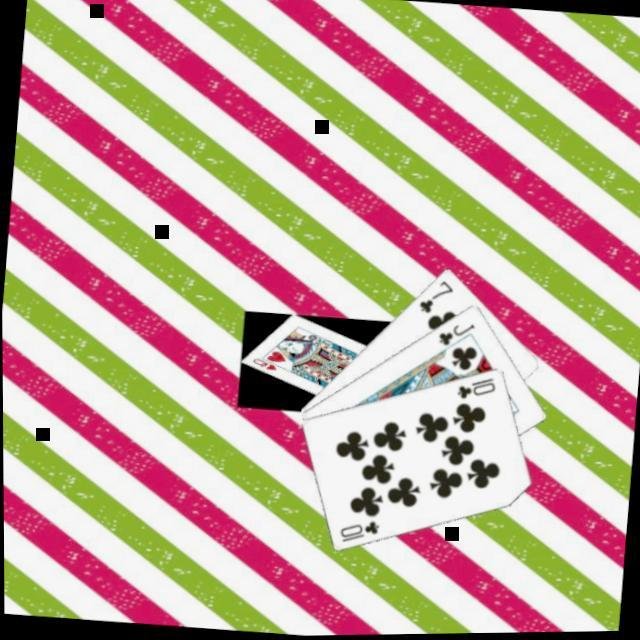10C: (454, 374, 500, 408), (336, 517, 383, 550)
7C: (416, 278, 458, 322)
JC: (434, 320, 478, 354)
